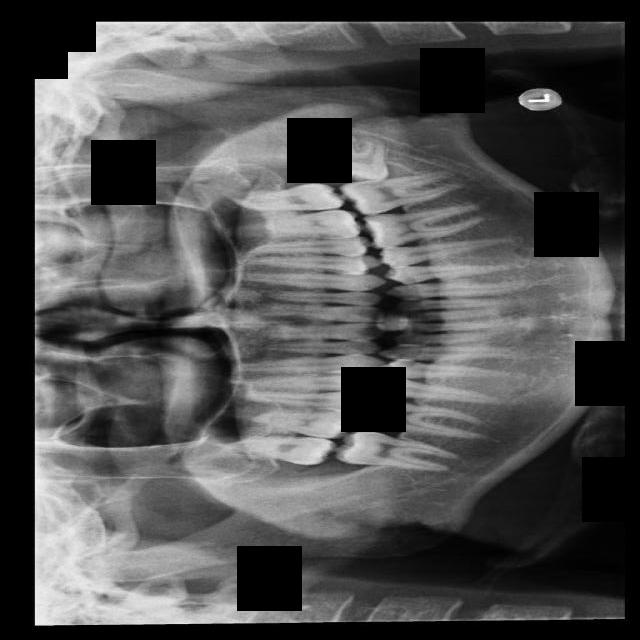73: (610, 8, 620, 24)
BioHorizons Implant: (224, 184, 345, 209)
Biomet 3i Implant: (319, 129, 393, 187)
Blue Sky Bio Implant: (341, 167, 462, 218)
Caries: (221, 434, 337, 464)
Implant: (333, 425, 458, 475)
